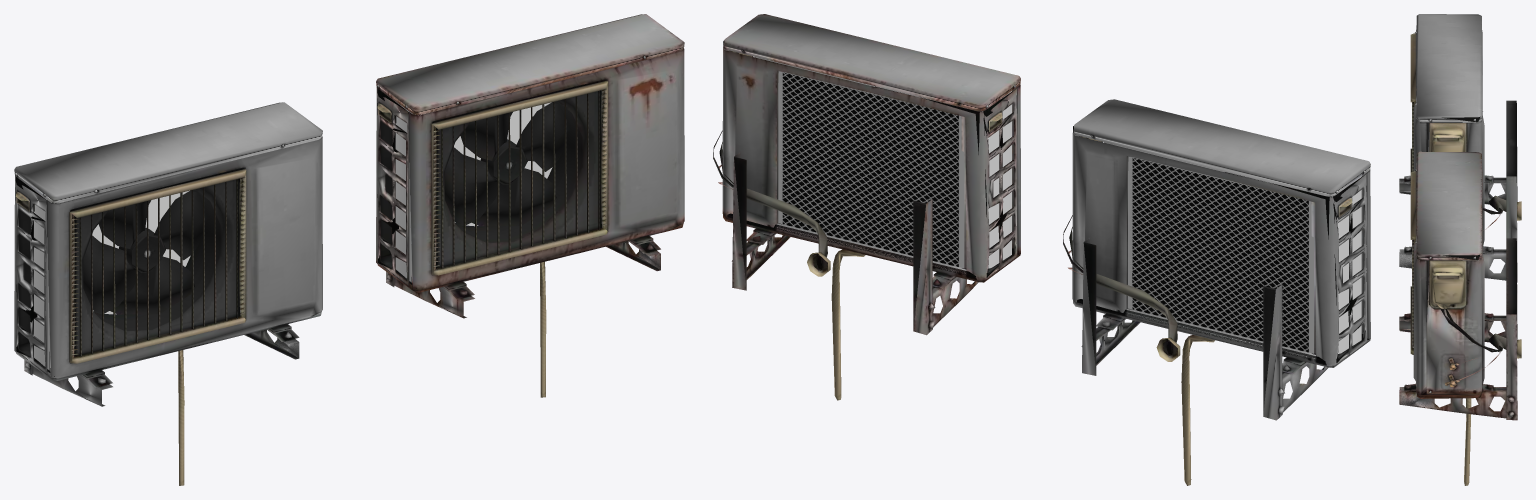
File: exterior_aircon_unit.5122d108.glb
3 renders of one model, left to right at view 1: azimuth 30°, elevation 25°; view 2: azimuth 150°, elevation 25°; view 3: azimuth 270°, elevation 25°, orthographic. The views are drawn at different scales.
Visible parts, largest first — view 1: exterior_aircon_unit, exterior_aircon_unit_rusted; view 2: exterior_aircon_unit, exterior_aircon_unit_rusted; view 3: exterior_aircon_unit_rusted, exterior_aircon_unit.
Boxes of the visible parts, x1,y1,x2,y2 form: exterior_aircon_unit: [14, 102, 322, 485]; exterior_aircon_unit_rusted: [376, 14, 684, 397]; exterior_aircon_unit: [1063, 99, 1370, 485]; exterior_aircon_unit_rusted: [713, 14, 1020, 400]; exterior_aircon_unit_rusted: [1399, 151, 1521, 485]; exterior_aircon_unit: [1399, 14, 1521, 282].
Bounding box in the file's own units: 1.8 × 0.9279 × 0.3742.
4 materials, 4 textured.
